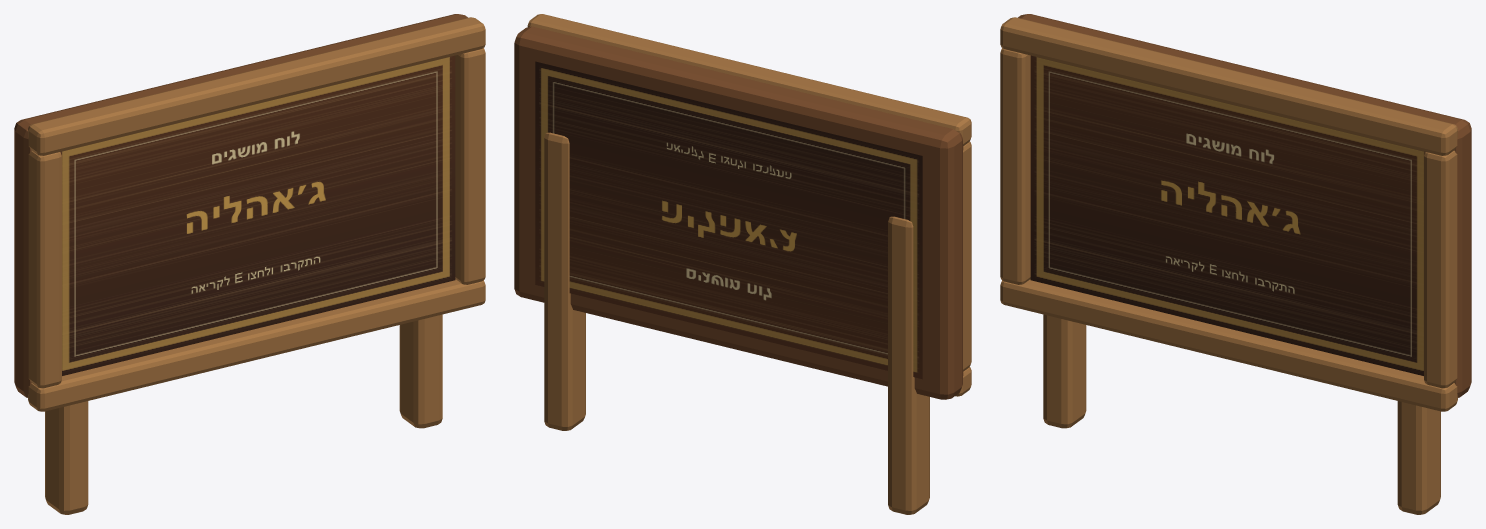
The model's file is concept-board.glb.
The picture shows the model from 3 angles, left to right: view 1: azimuth 30°, elevation 25°; view 2: azimuth 150°, elevation 25°; view 3: azimuth 330°, elevation 25°; orthographic projection. The views are drawn at different scales.
Parts seen in each view (by area): view 1: readable_hebrew_face, top_frame, bottom_frame, left_frame, board_back, right_frame, left_post, right_post; view 2: readable_hebrew_back, board_back, right_post, left_post, top_frame, left_frame; view 3: readable_hebrew_face, top_frame, bottom_frame, right_frame, board_back, left_frame, right_post, left_post.
Part boxes in pixels (x1,y1,x2,y2): readable_hebrew_face: (60,55,455,375); top_frame: (28,17,485,155); bottom_frame: (28,279,485,411); left_frame: (28,150,61,388); board_back: (14,14,467,397); right_frame: (455,48,485,284); left_post: (45,401,88,514); right_post: (399,314,442,428); readable_hebrew_back: (535,61,922,379); board_back: (514,26,963,399); right_post: (544,132,585,430); left_post: (888,216,929,514); top_frame: (527,14,971,145); left_frame: (963,142,971,371); readable_hebrew_face: (1030,55,1425,375); top_frame: (1000,17,1457,155); bottom_frame: (1000,279,1457,411); right_frame: (1424,150,1457,388); board_back: (1018,14,1471,397); left_frame: (1000,48,1030,284); right_post: (1397,401,1440,514); left_post: (1043,314,1086,428).
Size of the model in its own units: 2.22 by 1.88 by 0.26.
3 materials, 1 textured.
